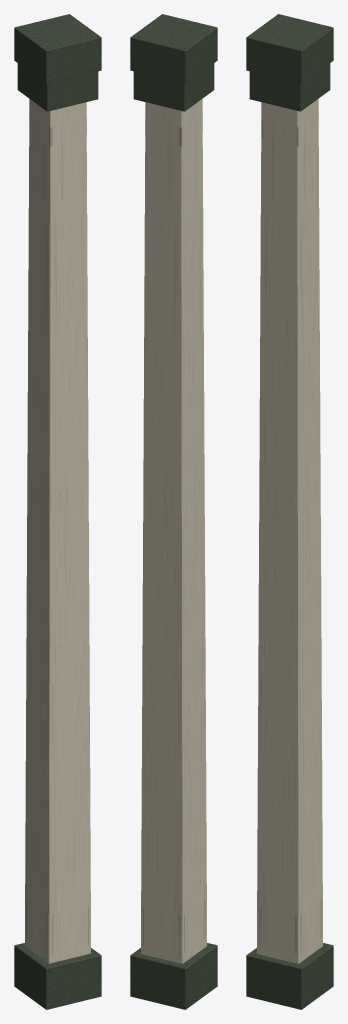
File: house_01_porch_post.glb
The picture shows the model from 3 angles, left to right: view 1: azimuth 30°, elevation 25°; view 2: azimuth 150°, elevation 25°; view 3: azimuth 330°, elevation 25°; orthographic projection.
Visible parts, largest first — view 1: house_01_porch_post; view 2: house_01_porch_post; view 3: house_01_porch_post.
Part boxes in pixels (x1,y1,x2,y2): house_01_porch_post: (14,14,101,1009); house_01_porch_post: (130,14,217,1009); house_01_porch_post: (246,14,333,1009).
Bounding box in the file's own units: 0.14 × 2.3 × 0.14.
2 materials, 2 textured.
